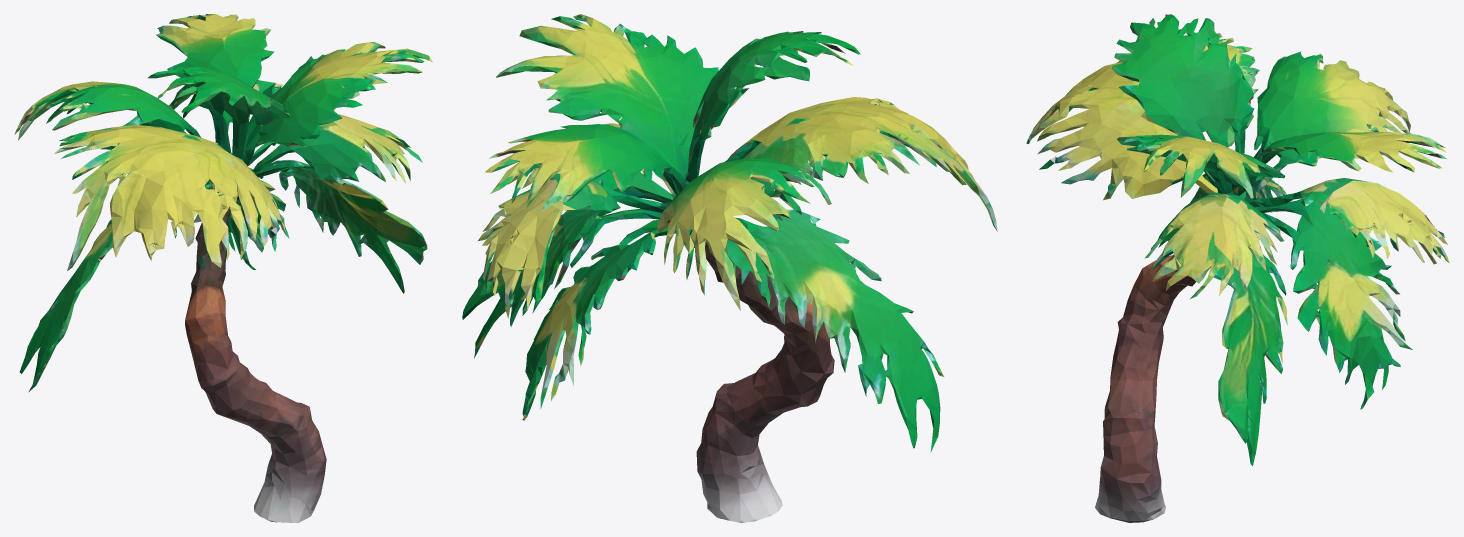
The model's file is palm_b.glb.
3 renders of one model, left to right at view 1: azimuth 30°, elevation 25°; view 2: azimuth 150°, elevation 25°; view 3: azimuth 270°, elevation 25°, orthographic. The views are drawn at different scales.
Visible parts, largest first — view 1: tmpkdka2ey_.ply; view 2: tmpkdka2ey_.ply; view 3: tmpkdka2ey_.ply.
Part boxes in pixels (bbox=[...]): tmpkdka2ey_.ply: bbox=[14, 14, 433, 522]; tmpkdka2ey_.ply: bbox=[462, 14, 997, 522]; tmpkdka2ey_.ply: bbox=[1026, 14, 1449, 522].
Bounding box in the file's own units: 1.96 × 1.99 × 1.69.
1 material, 1 textured.
